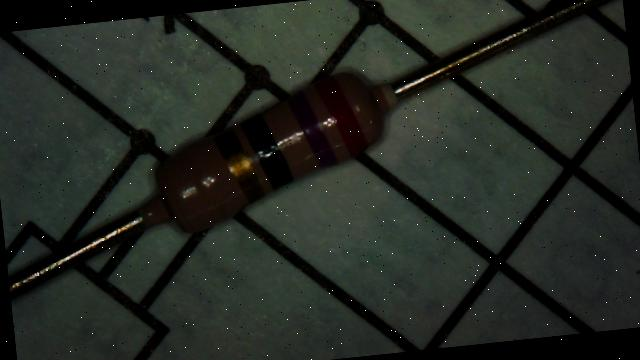black: (241, 112, 294, 192)
gold: (214, 126, 264, 204)
red: (316, 74, 368, 160)
resistor: (116, 34, 414, 256)
violet: (286, 88, 338, 170)
